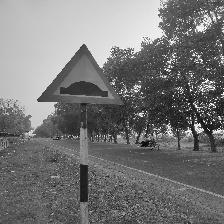Speed-breaker: (40, 47, 120, 103)
